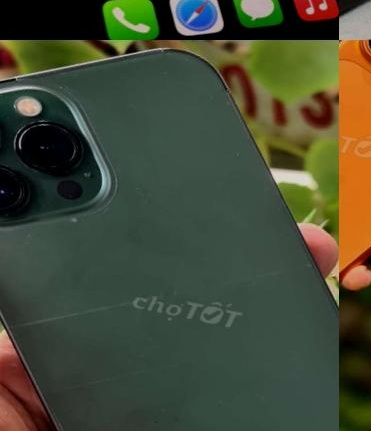scratch: (0, 191, 339, 431)
